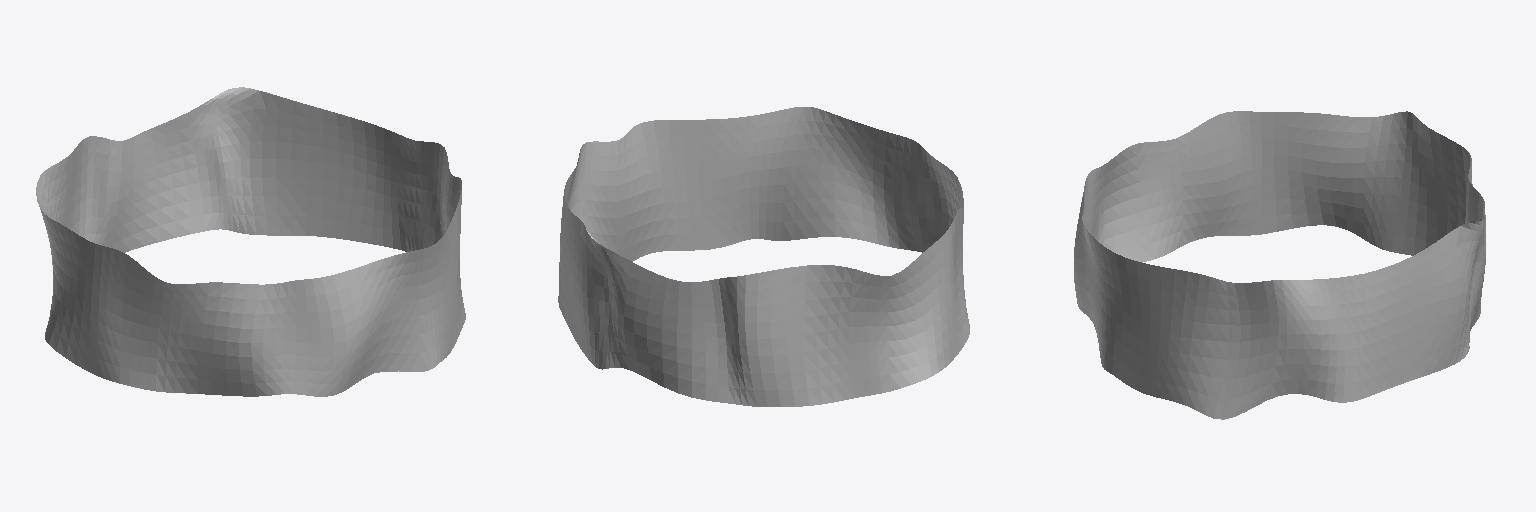
The picture shows the model from 3 angles: view 1: azimuth 30°, elevation 25°; view 2: azimuth 150°, elevation 25°; view 3: azimuth 270°, elevation 25°; orthographic projection.
Visible parts, largest first — view 1: ER2; view 2: ER2; view 3: ER2.
Boxes of the visible parts, <box> form: ER2: <box>36,87,465,396</box>; ER2: <box>558,107,969,406</box>; ER2: <box>1074,111,1485,419</box>.
Size of the model in its own units: 0.8421 by 0.3342 by 0.8115.